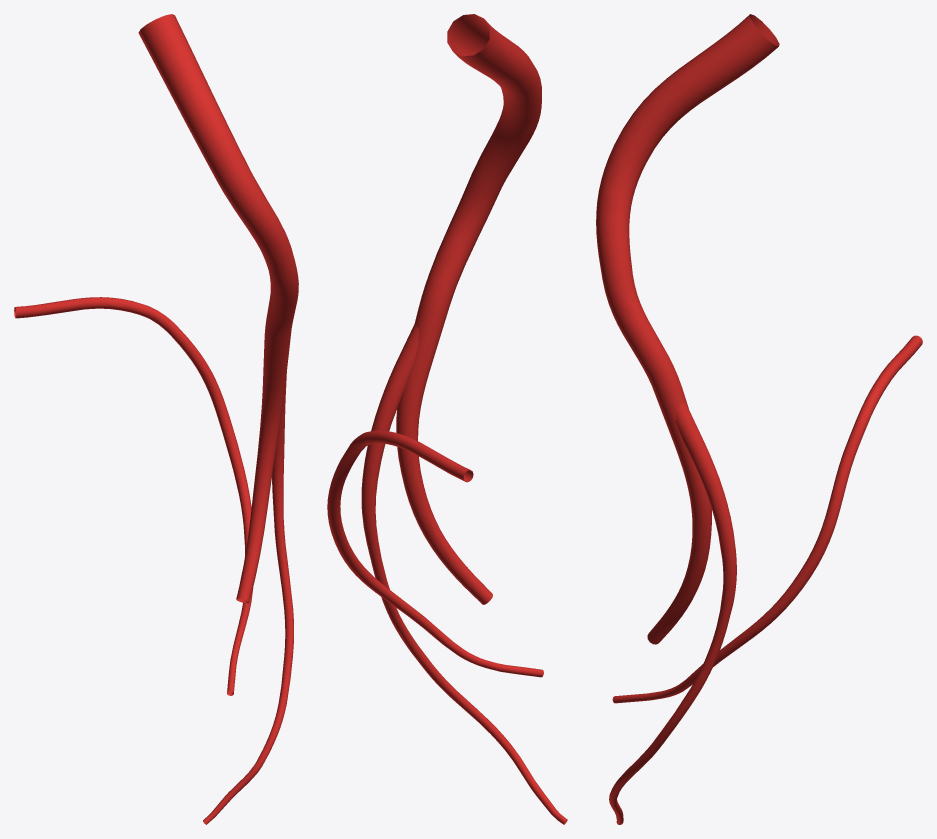
The model's file is circulatorio-superior-medial-genicular-artery-r.glb.
The picture shows the model from 3 angles, left to right: view 1: azimuth 30°, elevation 25°; view 2: azimuth 150°, elevation 25°; view 3: azimuth 270°, elevation 25°; orthographic projection. The views are drawn at different scales.
Visible parts, largest first — view 1: Superior medial genicular artery.r; view 2: Superior medial genicular artery.r; view 3: Superior medial genicular artery.r.
Part boxes in pixels (bbox=[...]): Superior medial genicular artery.r: bbox=[14, 14, 298, 824]; Superior medial genicular artery.r: bbox=[327, 14, 567, 824]; Superior medial genicular artery.r: bbox=[596, 14, 922, 824].
Bounding box in the file's own units: 0.0363 × 0.1444 × 0.0522.
